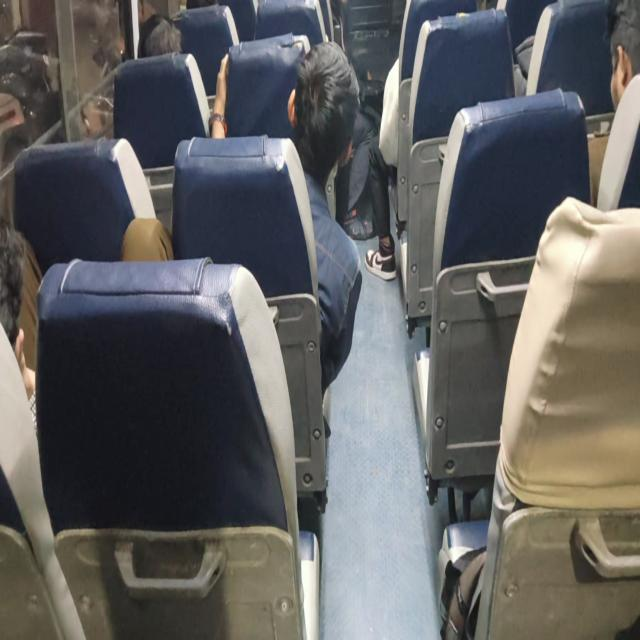person: (299, 29, 358, 154), (610, 12, 640, 120), (138, 13, 188, 71)
